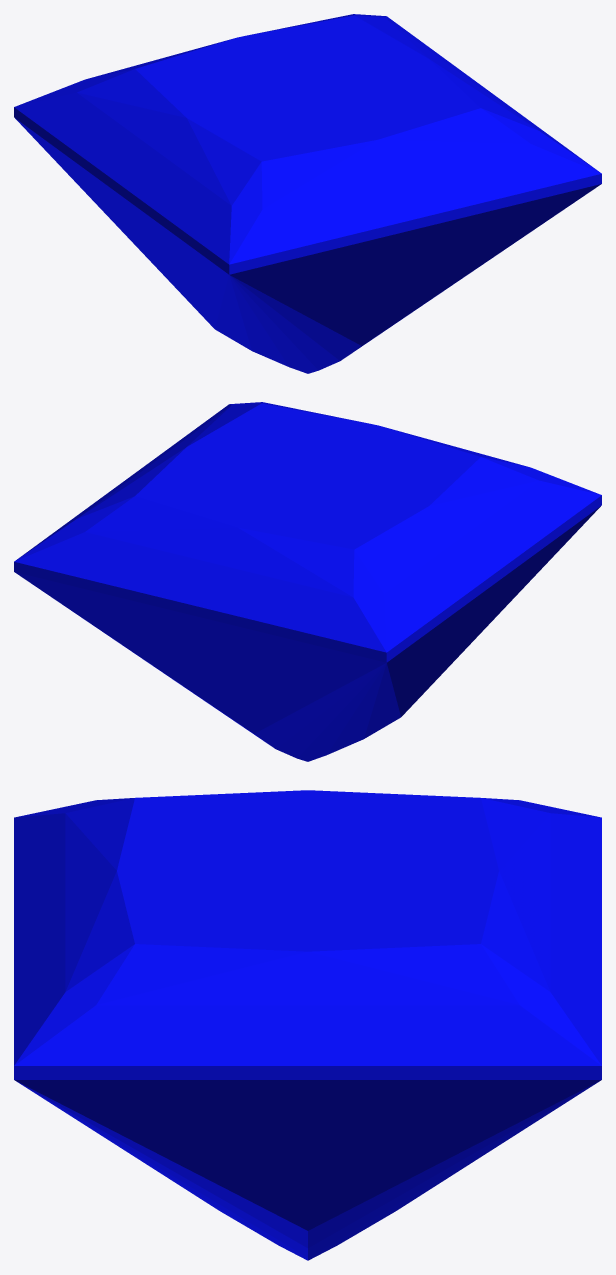
File: Jewel03.fbx
3 views of the same model, one above another, from view 1: azimuth 30°, elevation 25°; view 2: azimuth 150°, elevation 25°; view 3: azimuth 270°, elevation 25° (orthographic). The views are drawn at different scales.
Parts seen in each view (by area): view 1: Princess.002; view 2: Princess.002; view 3: Princess.002.
Boxes of the visible parts, x1,y1,x2,y2 form: Princess.002: (14, 14, 601, 373); Princess.002: (14, 402, 601, 761); Princess.002: (14, 790, 601, 1260).
Bounding box in the file's own units: 0.1 × 0.0732 × 0.1.
